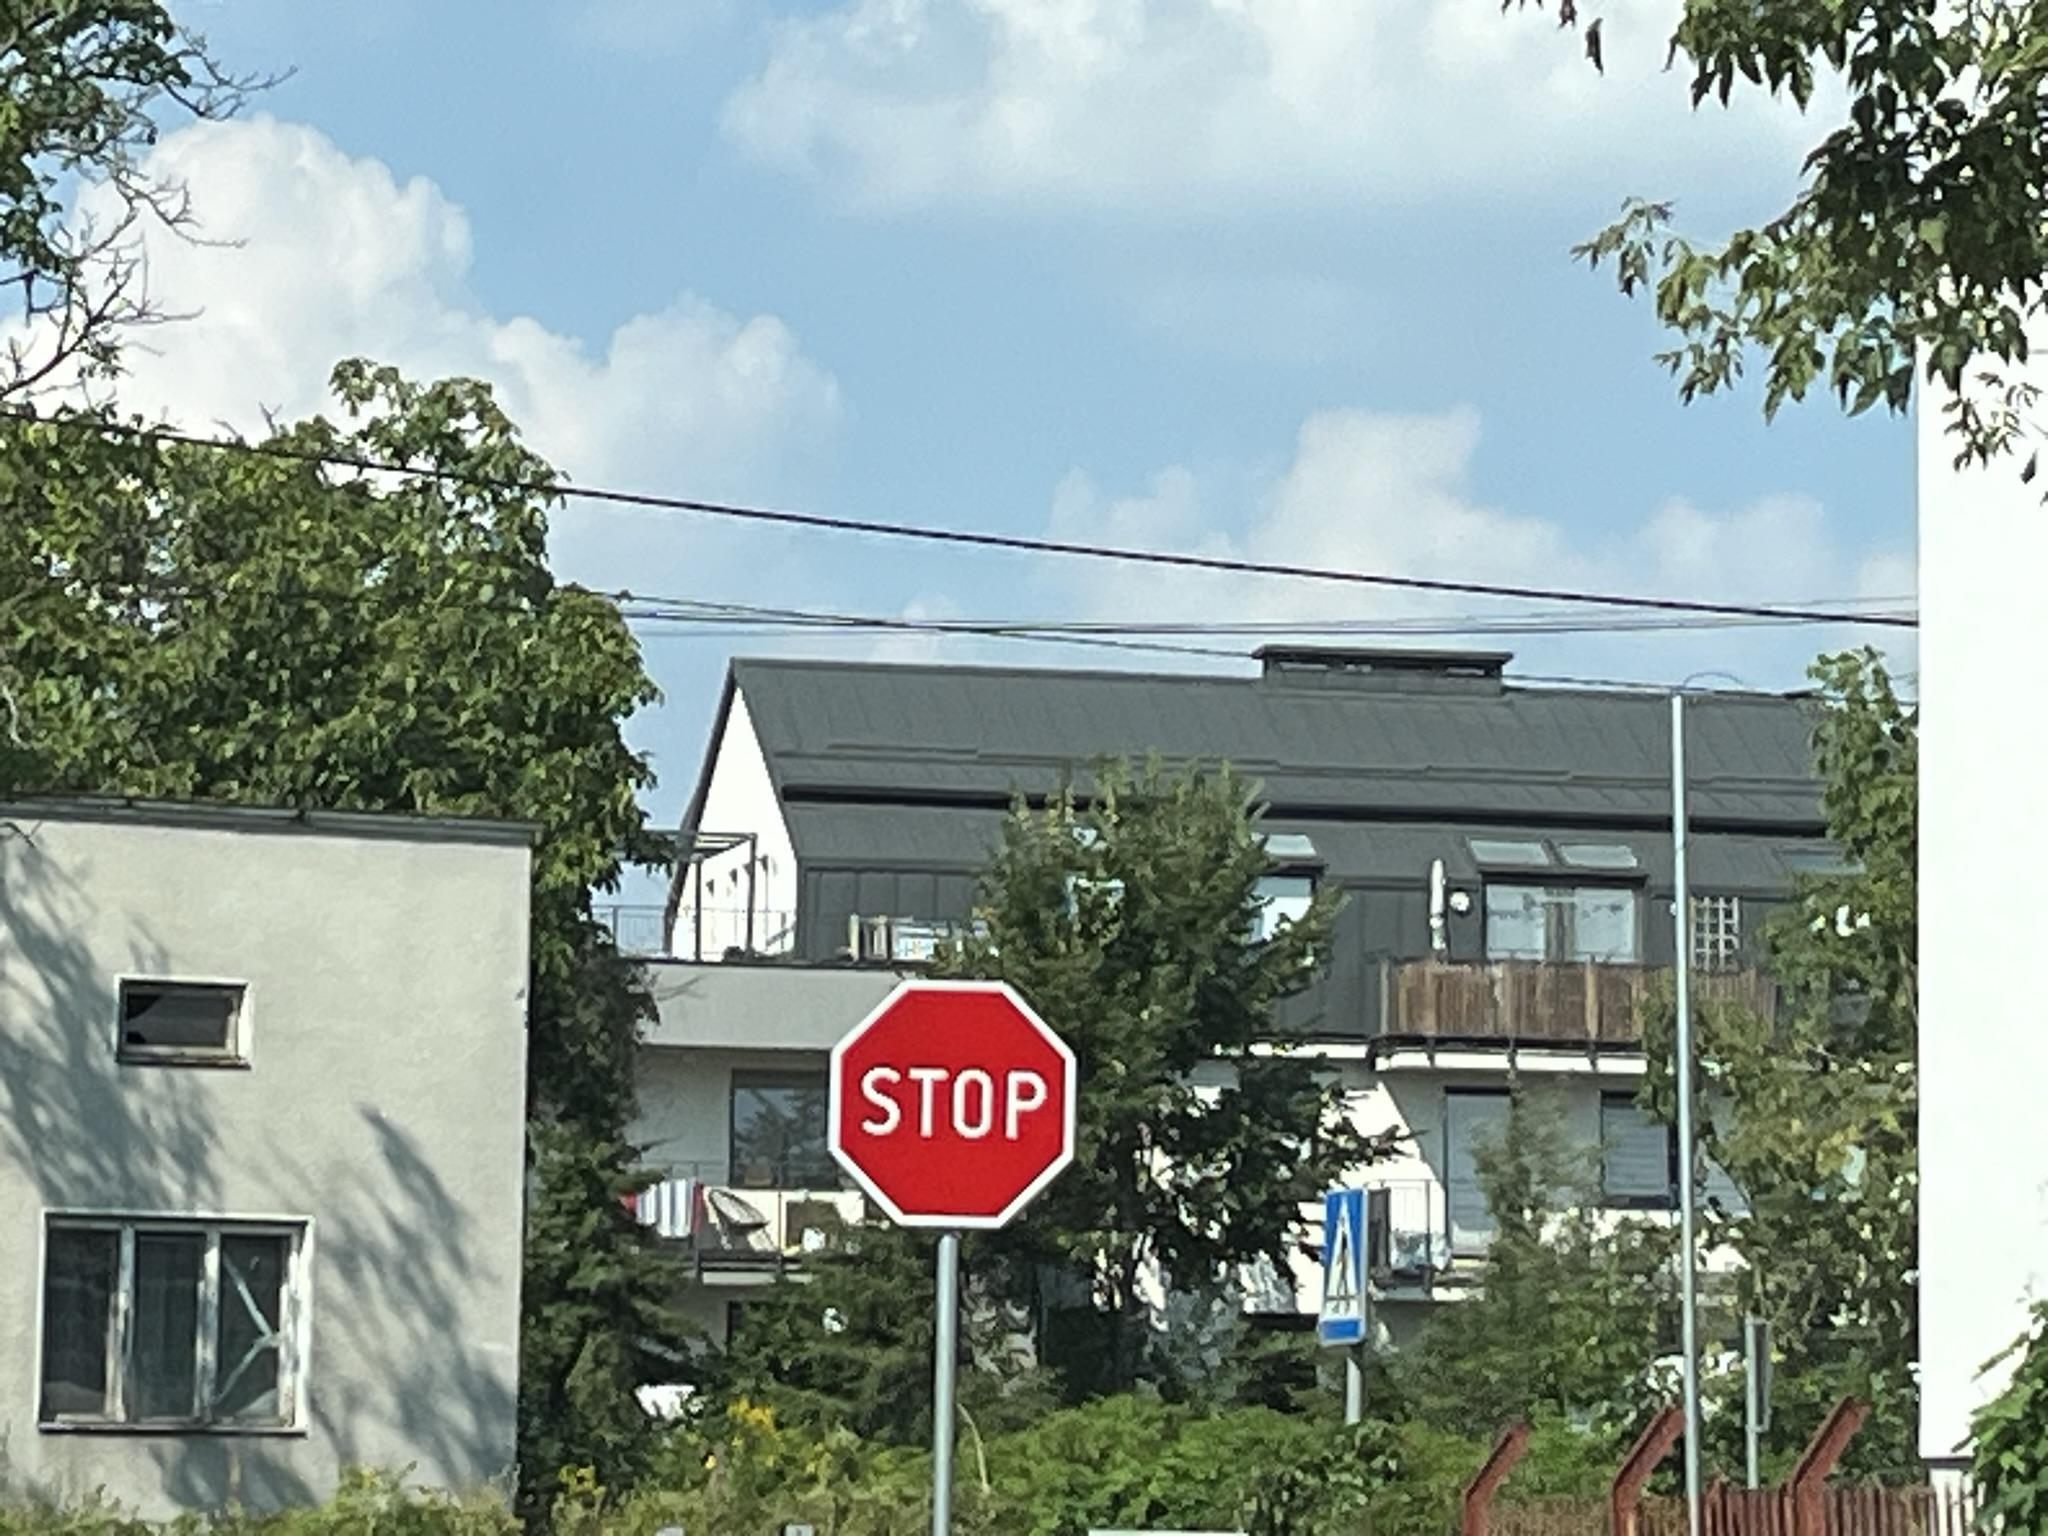information: (1322, 1194, 1367, 1342)
prohibitory: (829, 979, 1079, 1234)
